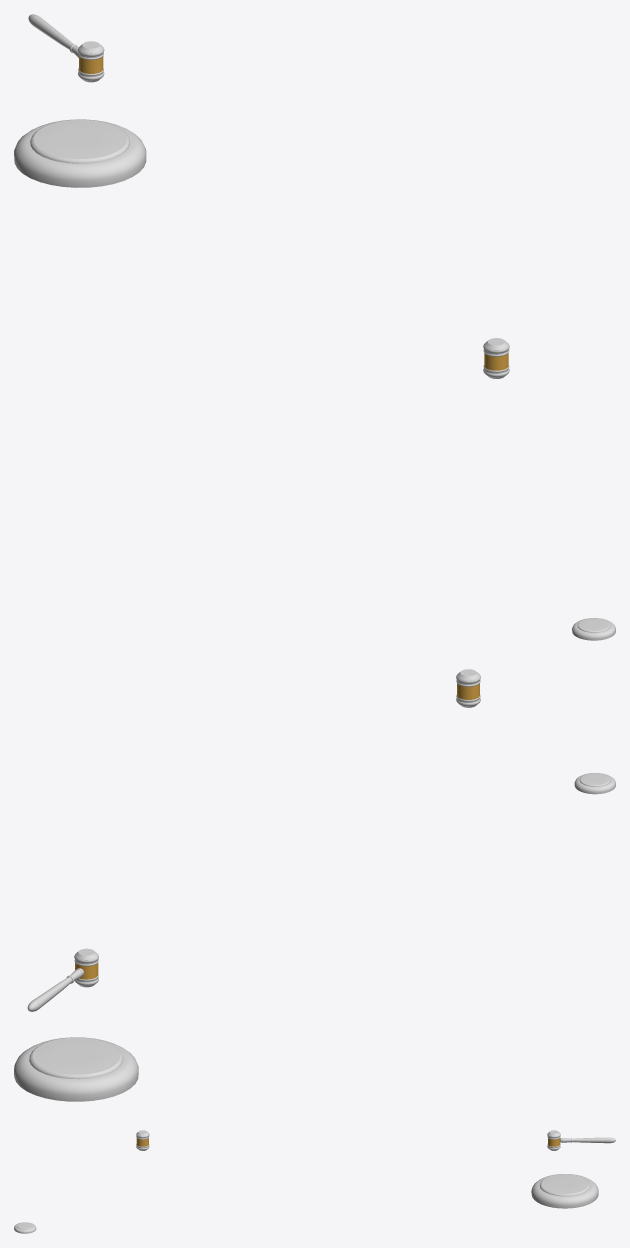
File: Подставка.fbx
3 renders of one model, top to bottom at view 1: azimuth 30°, elevation 25°; view 2: azimuth 150°, elevation 25°; view 3: azimuth 270°, elevation 25°, orthographic. The views are drawn at different scales.
Visible parts, largest first — view 1: Sphere.004, Sphere.002, Платформа; view 2: Sphere.004, Sphere.002, Платформа, Sphere.003; view 3: Sphere.004, Sphere.002, Sphere.003, Платформа.
Boxes of the visible parts, x1,y1,x2,y2 form: Sphere.004: (14, 119, 146, 187); Sphere.002: (30, 119, 129, 163); Платформа: (572, 618, 615, 640); Sphere.004: (14, 1037, 138, 1101); Sphere.002: (29, 1037, 123, 1079); Платформа: (574, 773, 615, 794); Sphere.003: (27, 969, 82, 1011); Sphere.004: (531, 1174, 598, 1208); Sphere.002: (539, 1174, 590, 1196); Sphere.003: (562, 1137, 615, 1143); Платформа: (14, 1222, 36, 1233).
Size of the model in its own units: 185 by 307 by 1652.
